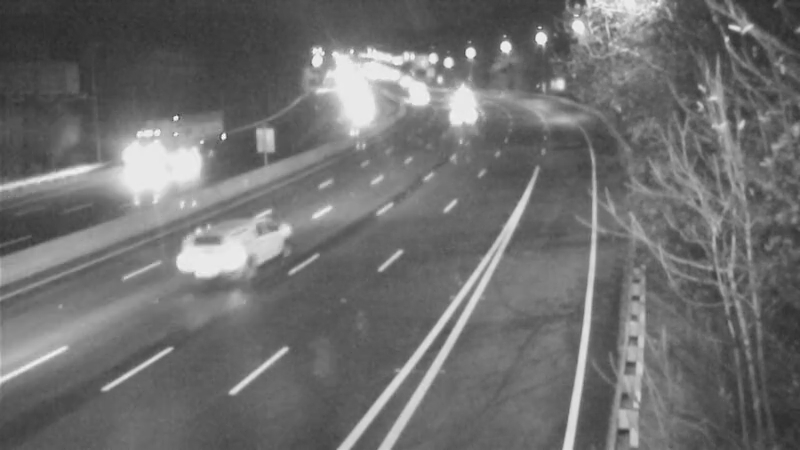vehicle: (179, 207, 259, 287), (102, 127, 182, 207), (387, 69, 437, 119), (437, 84, 487, 134)
